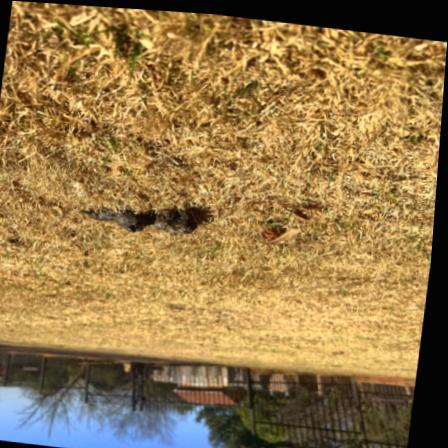dog-poop: (91, 188, 217, 241)
